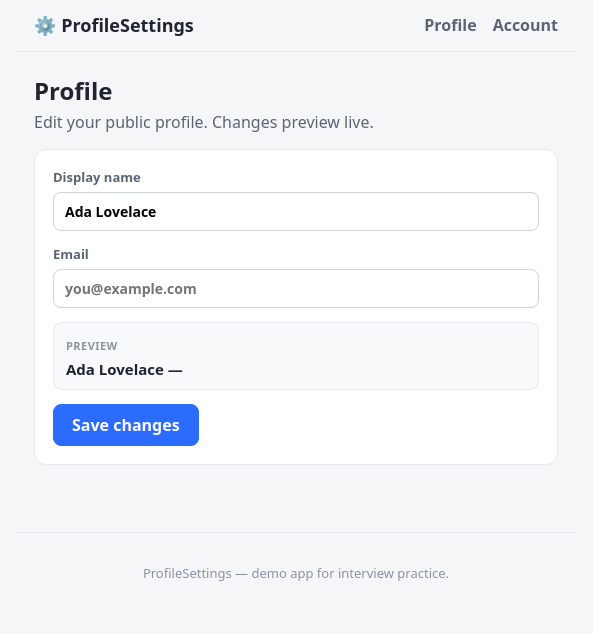
Test: m07 · ProfileSettings — controlled inputs › Save records the profile
The image size is (593, 634).
Click the button with test id "save": [126, 425] box [53, 404, 199, 446]
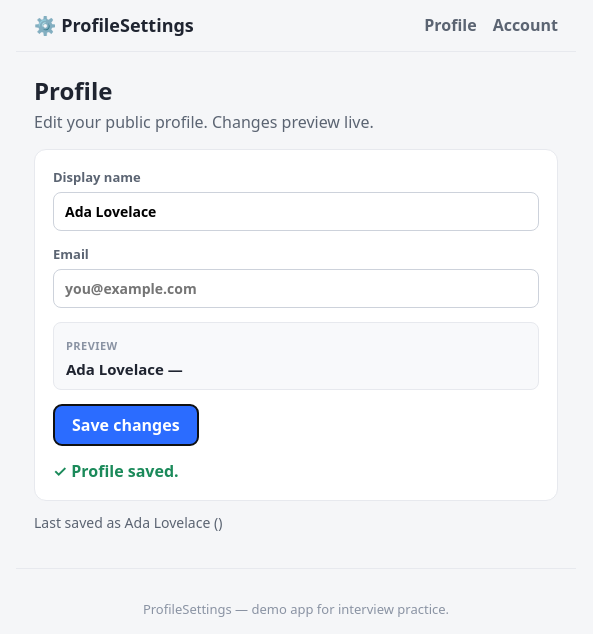
Result: the text "✓ Profile saved." is shown at [53, 460, 179, 482]
